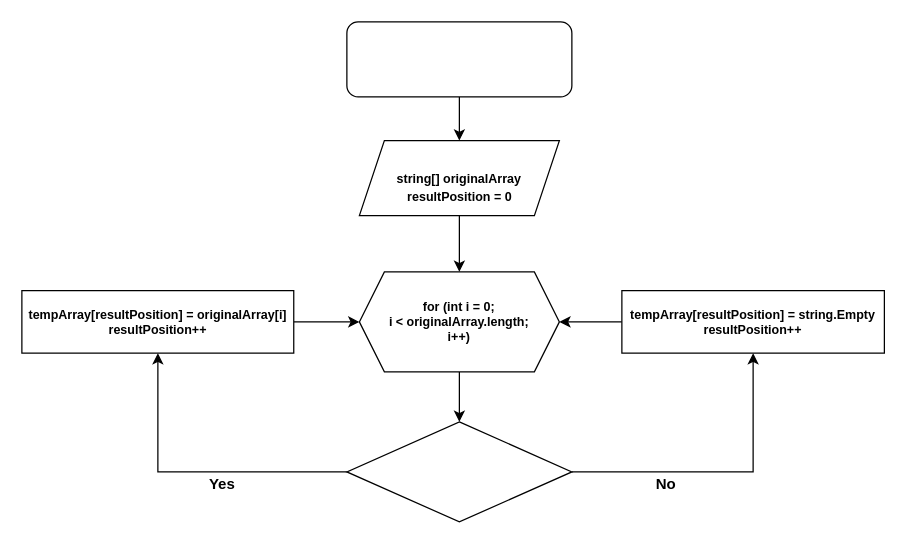
The diagram is 906 pixels wide and 544 high, and some of its shapes have lost their labels. The centre of each missing label's shape, as x and y in pixels:
GetArrayAfterApplyingCondition: pixel 459 59
if (originalArray[i].length <= 3): pixel 459 471
